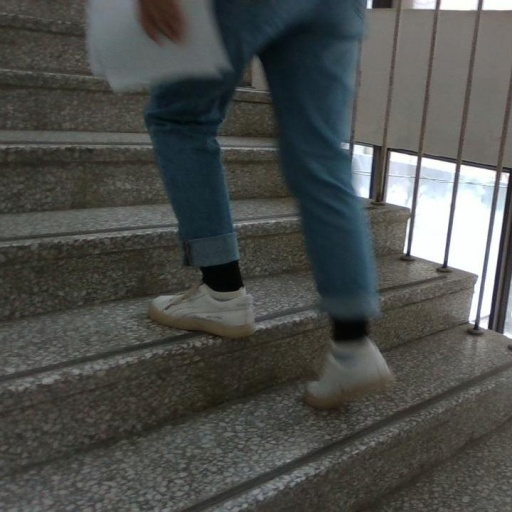Stairs: (0, 2, 512, 512)
